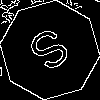S: (25, 25, 80, 81)
